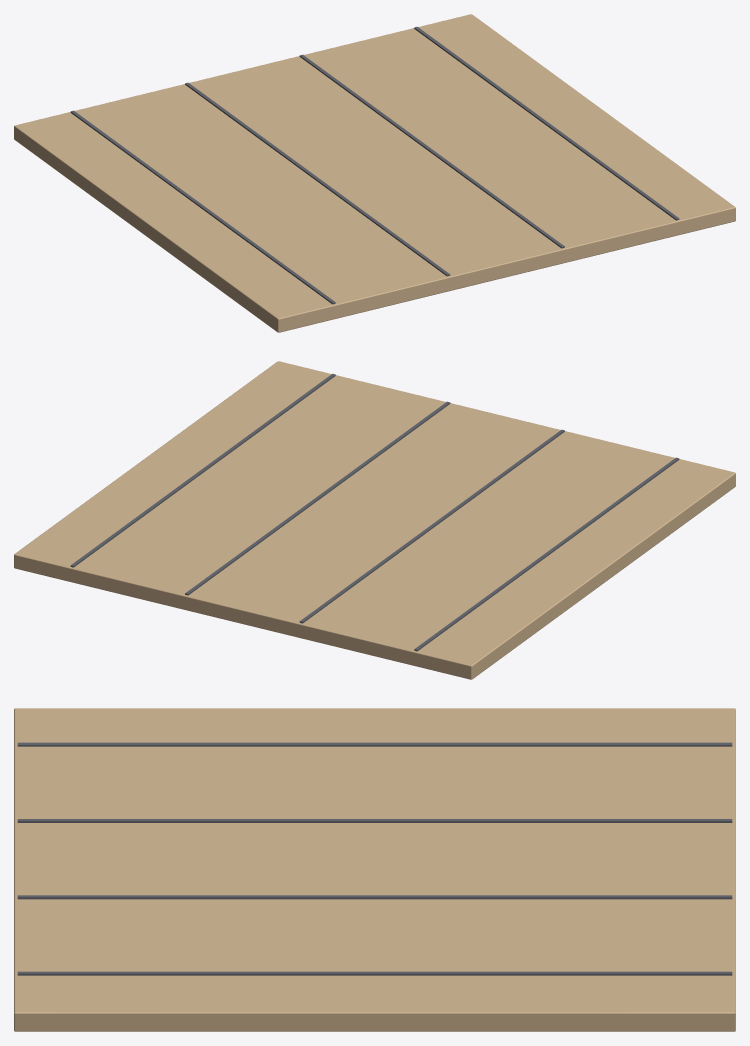
The model's file is art-gallery-and-exhibition-rooms-gallery-floor-tile-8d6d082b.glb.
The picture shows the model from 3 angles, top to bottom: view 1: azimuth 30°, elevation 25°; view 2: azimuth 150°, elevation 25°; view 3: azimuth 270°, elevation 25°; orthographic projection. The views are drawn at different scales.
Visible parts, largest first — view 1: gallery-floor-tile; view 2: gallery-floor-tile; view 3: gallery-floor-tile.
Boxes of the visible parts, left/top/right/bottom form: gallery-floor-tile: left=14, top=14, right=735, bottom=332; gallery-floor-tile: left=14, top=361, right=735, bottom=679; gallery-floor-tile: left=14, top=708, right=735, bottom=1031.
Bounding box in the file's own units: 2 × 0.0661 × 2.
